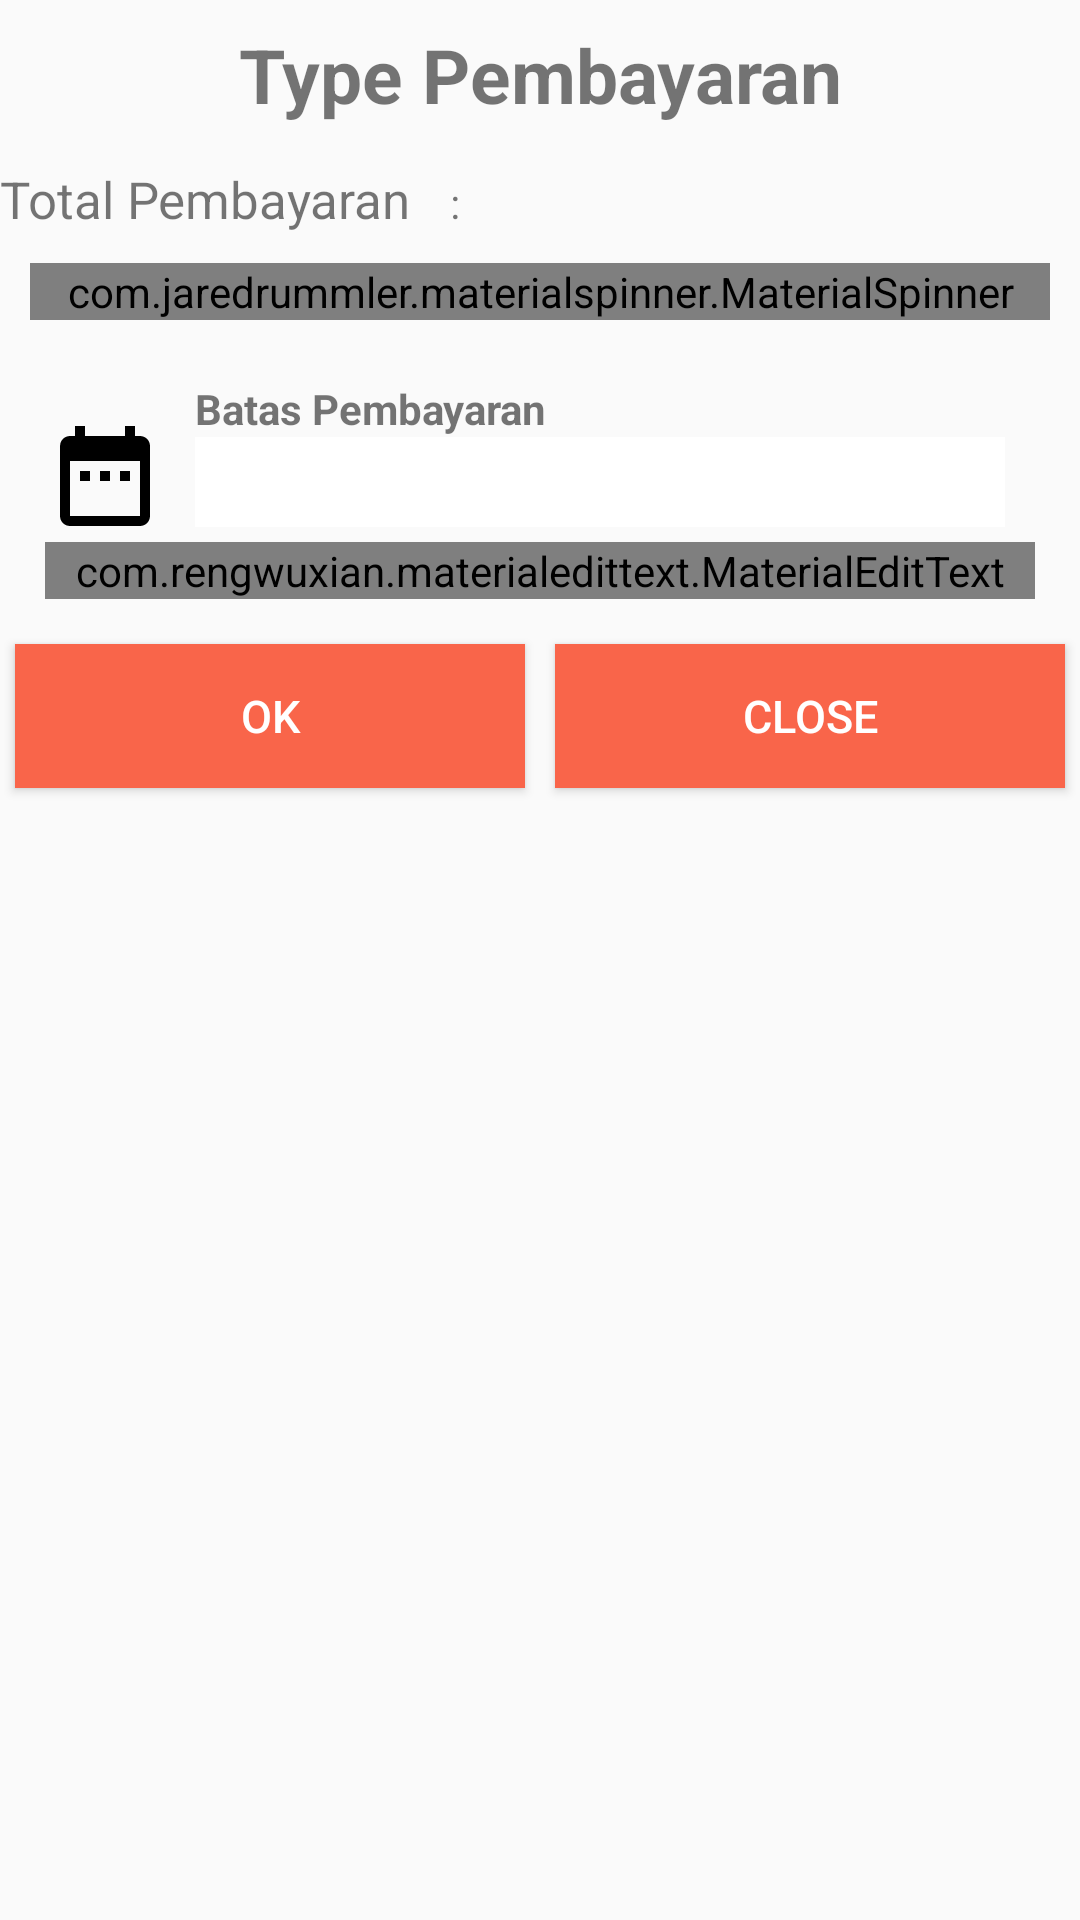

Icons on this 1080 × 1920 Android screen, each with its box as (x1, y1, x2, y2):
date range: (60, 426, 150, 526)
